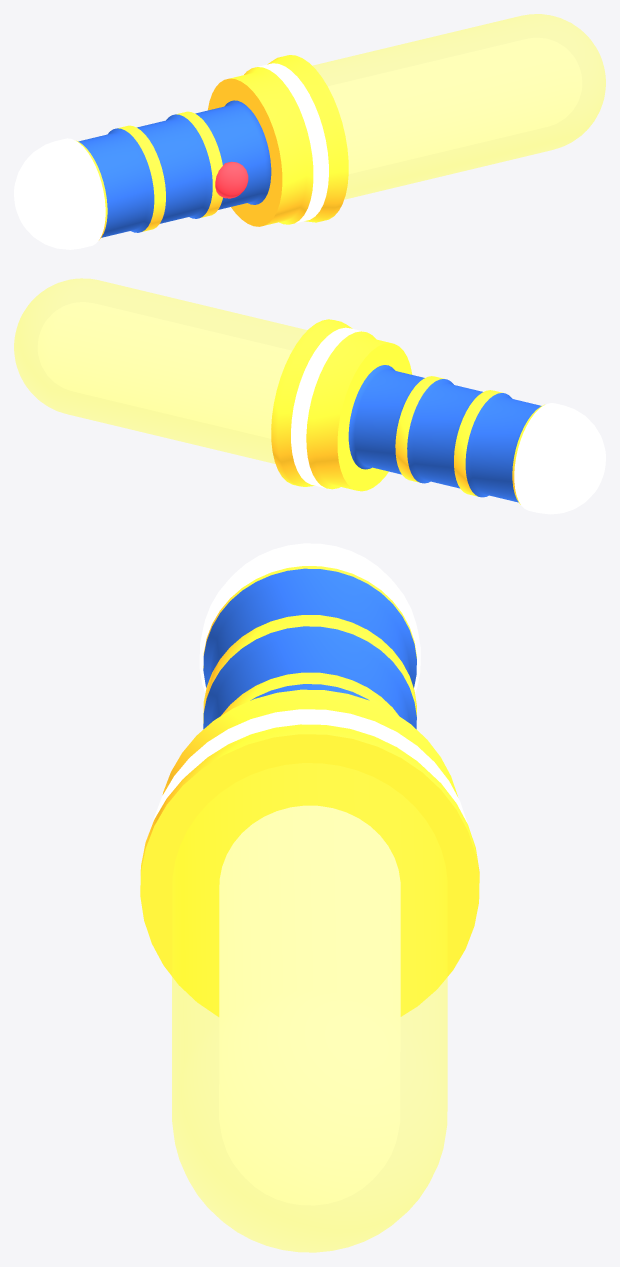
The picture shows the model from 3 angles, top to bottom: view 1: azimuth 30°, elevation 25°; view 2: azimuth 150°, elevation 25°; view 3: azimuth 270°, elevation 25°; orthographic projection. The views are drawn at different scales.
Visible parts, largest first — view 1: SaberChunky; view 2: SaberChunky; view 3: SaberChunky.
Boxes of the visible parts, x1=… form: SaberChunky: x1=14, y1=14, x2=605, y2=249; SaberChunky: x1=14, y1=278, x2=605, y2=514; SaberChunky: x1=140, y1=543, x2=479, y2=1252.
Size of the model in its own units: 5.79 by 1.48 by 1.48.
